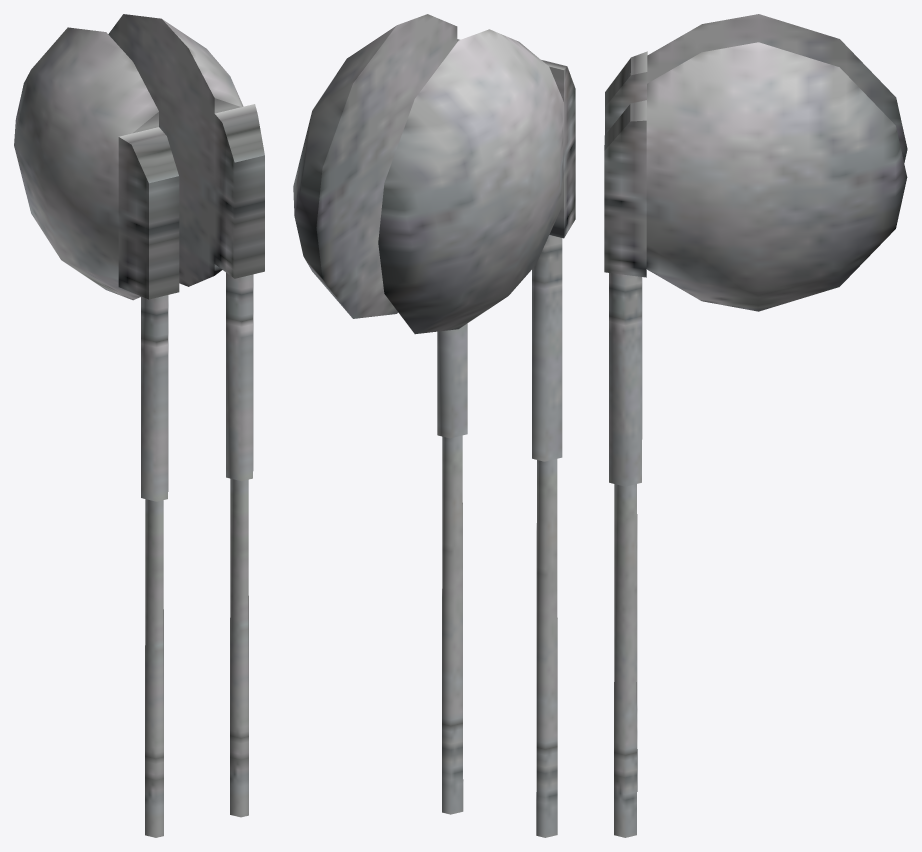
The model's file is lambda_l_wing_guns_faction_l1.fbx.
The picture shows the model from 3 angles, left to right: view 1: azimuth 30°, elevation 25°; view 2: azimuth 150°, elevation 25°; view 3: azimuth 270°, elevation 25°; orthographic projection. The views are drawn at different scales.
Parts seen in each view (by area): view 1: mesh_node; view 2: mesh_node; view 3: mesh_node.
Part boxes in pixels (<box>): mesh_node: <box>14,14,264,837</box>; mesh_node: <box>293,14,575,837</box>; mesh_node: <box>604,14,907,837</box>.
Bounding box in the file's own units: 1.38 × 5.28 × 1.85.
